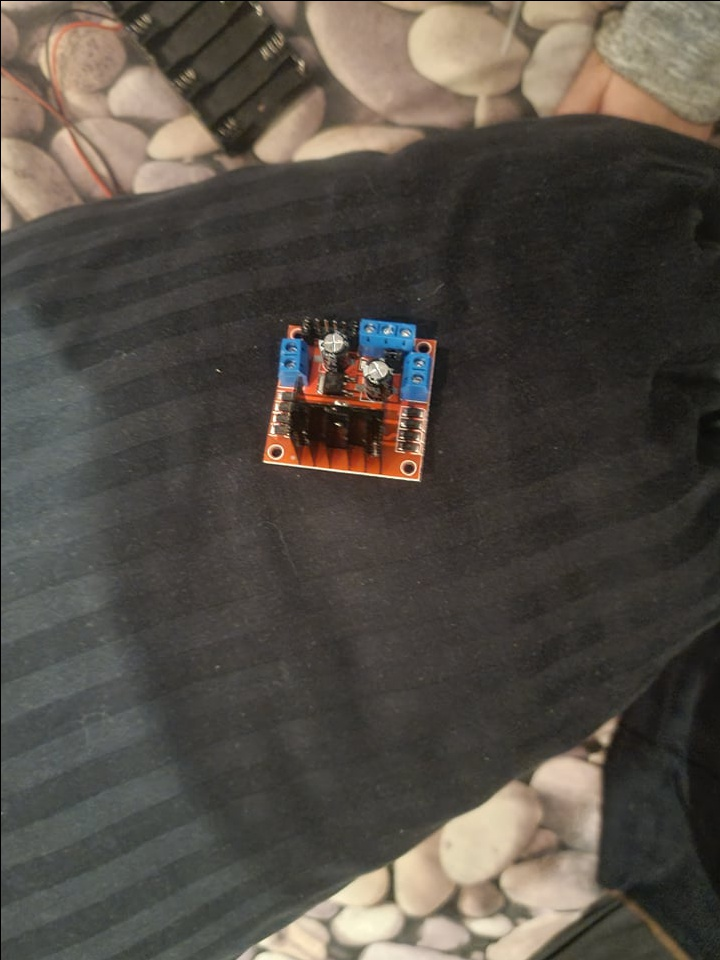MOTOR: (261, 312, 439, 484)
